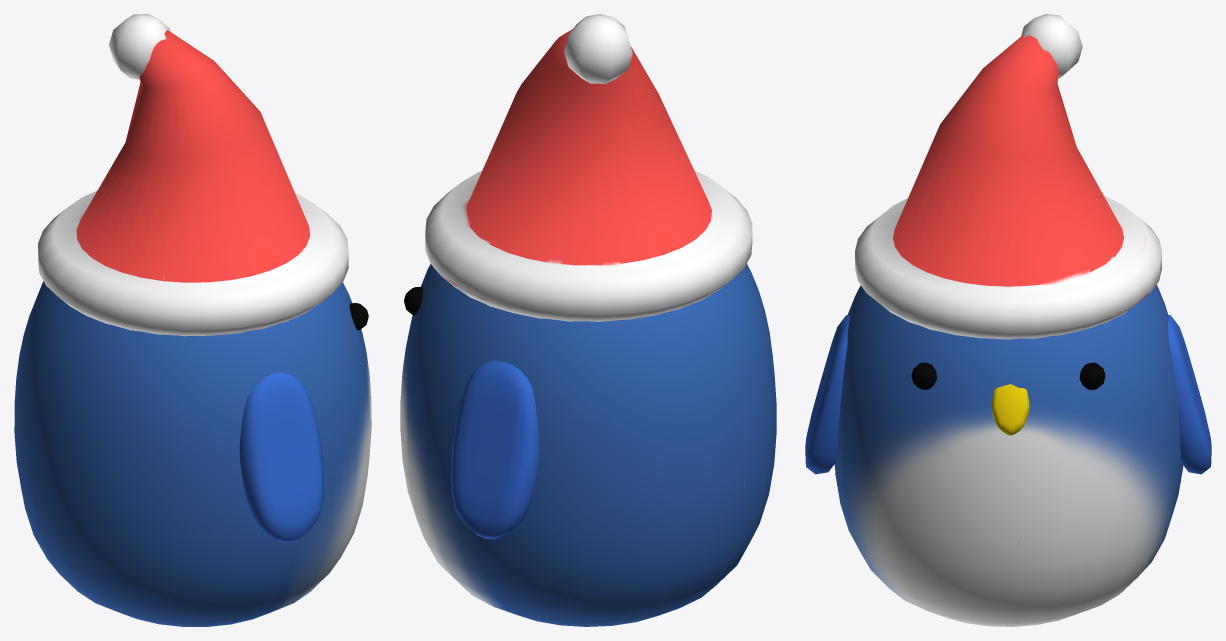
The model's file is friend.glb.
The picture shows the model from 3 angles, left to right: view 1: azimuth 30°, elevation 25°; view 2: azimuth 150°, elevation 25°; view 3: azimuth 270°, elevation 25°; orthographic projection. The views are drawn at different scales.
Parts seen in each view (by area): view 1: Body, Cylinder, Plane, Sphere; view 2: Body, Cylinder, Plane, Sphere; view 3: Body, Cylinder, Plane, Sphere, Plane.001, Sphere.001.
Boxes of the visible parts, left/top/right/bottom form: Body: left=14, top=281, right=371, bottom=626; Cylinder: left=38, top=30, right=348, bottom=336; Plane: left=239, top=372, right=323, bottom=542; Sphere: left=109, top=14, right=170, bottom=79; Body: left=400, top=263, right=776, bottom=626; Cylinder: left=425, top=29, right=752, bottom=321; Plane: left=451, top=360, right=539, bottom=539; Sphere: left=564, top=14, right=632, bottom=83; Body: left=834, top=284, right=1183, bottom=626; Cylinder: left=855, top=35, right=1161, bottom=339; Plane: left=805, top=315, right=1211, bottom=474; Sphere: left=1021, top=14, right=1082, bottom=78; Plane.001: left=991, top=384, right=1029, bottom=435; Sphere.001: left=911, top=362, right=1105, bottom=389.
Bounding box in the file's own units: 2.33 × 4.08 × 2.65.
Materials: 6 (2 with a texture image).
